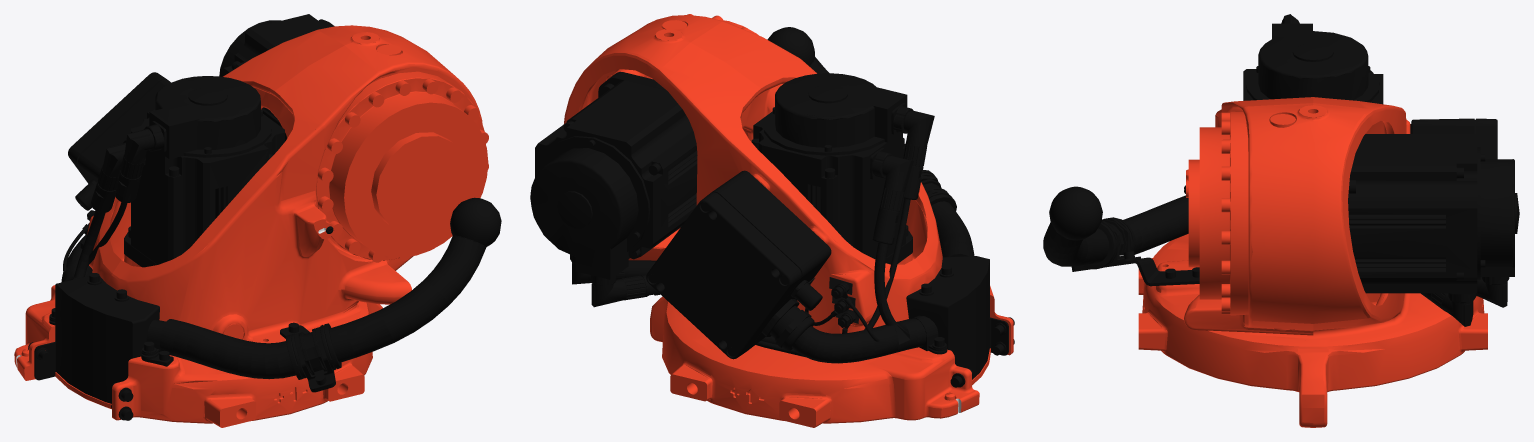
3 renders of one model, left to right at view 1: azimuth 30°, elevation 25°; view 2: azimuth 150°, elevation 25°; view 3: azimuth 270°, elevation 25°, orthographic. The views are drawn at different scales.
Visible parts, largest first — view 1: link_1; view 2: link_1; view 3: link_1.
Boxes of the visible parts, x1,y1,x2,y2 form: link_1: (14, 14, 501, 427); link_1: (530, 14, 1014, 427); link_1: (1043, 14, 1519, 427).
Bounding box in the file's own units: 0.4611 × 0.4418 × 0.32.
